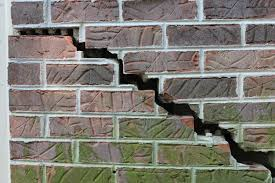stairstep_crack: (7, 25, 274, 182)
